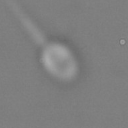normal: (4, 1, 46, 45)
